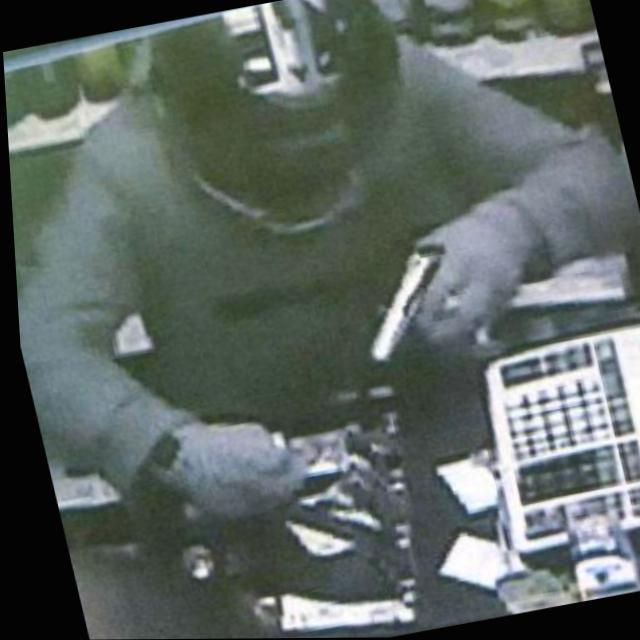gun: (334, 231, 514, 371)
